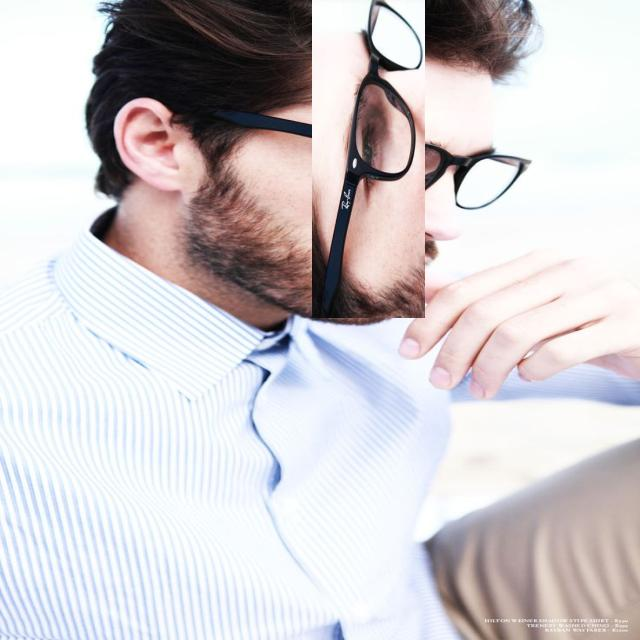glasses: (259, 46, 478, 265)
